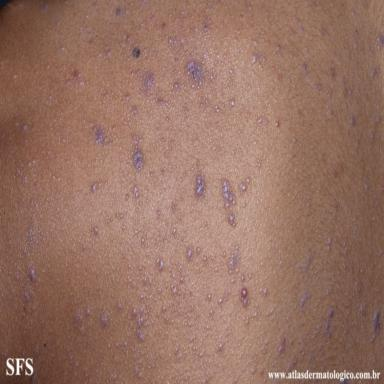lichen: (186, 61, 203, 86), (137, 70, 155, 93), (132, 135, 143, 171), (222, 180, 235, 208), (297, 252, 312, 271), (371, 309, 380, 340), (325, 308, 334, 337), (229, 246, 239, 271), (253, 51, 265, 69), (196, 174, 205, 196), (94, 126, 105, 143), (278, 335, 287, 354), (73, 70, 83, 87), (75, 313, 83, 334), (137, 317, 144, 341), (28, 228, 36, 245), (240, 287, 247, 306), (300, 294, 308, 309), (156, 98, 168, 106), (157, 258, 164, 271), (377, 34, 384, 47), (228, 213, 235, 226), (253, 303, 259, 317), (239, 182, 247, 192), (23, 246, 29, 259), (371, 66, 378, 77), (29, 269, 35, 281), (101, 315, 107, 327), (187, 249, 193, 261), (133, 187, 139, 199), (313, 83, 322, 91), (359, 305, 365, 315), (24, 293, 30, 303), (327, 237, 331, 251), (41, 2, 48, 10), (116, 7, 122, 16), (132, 308, 137, 318), (171, 285, 176, 295), (131, 106, 137, 114), (91, 183, 96, 192), (93, 226, 98, 235), (218, 343, 223, 352), (203, 24, 209, 31), (174, 81, 179, 89), (86, 308, 91, 316), (263, 288, 268, 296), (275, 119, 280, 127), (106, 46, 110, 56), (171, 204, 176, 212), (257, 159, 261, 168), (351, 117, 355, 125), (371, 133, 375, 141), (93, 1, 97, 9), (302, 63, 307, 69), (258, 117, 263, 123), (230, 100, 235, 106), (168, 37, 173, 43), (245, 316, 249, 323), (215, 106, 219, 113), (203, 257, 207, 264), (218, 298, 223, 303), (118, 301, 121, 309), (241, 275, 245, 281), (180, 276, 184, 282), (162, 306, 166, 312), (23, 125, 27, 131), (277, 45, 281, 51), (181, 37, 185, 43), (173, 227, 176, 234), (246, 178, 250, 183), (231, 278, 235, 283), (235, 268, 239, 273), (157, 210, 161, 215), (210, 74, 214, 79), (229, 69, 233, 74), (139, 138, 143, 143), (197, 247, 200, 253), (140, 308, 143, 314), (142, 237, 145, 243), (98, 182, 101, 188), (24, 177, 27, 183), (31, 200, 34, 206), (209, 311, 213, 315), (208, 295, 211, 300), (293, 138, 296, 143), (265, 340, 268, 345), (158, 288, 161, 293), (140, 295, 143, 299), (205, 99, 208, 103), (200, 102, 203, 106), (192, 84, 195, 88), (197, 85, 199, 89), (215, 268, 217, 271)
